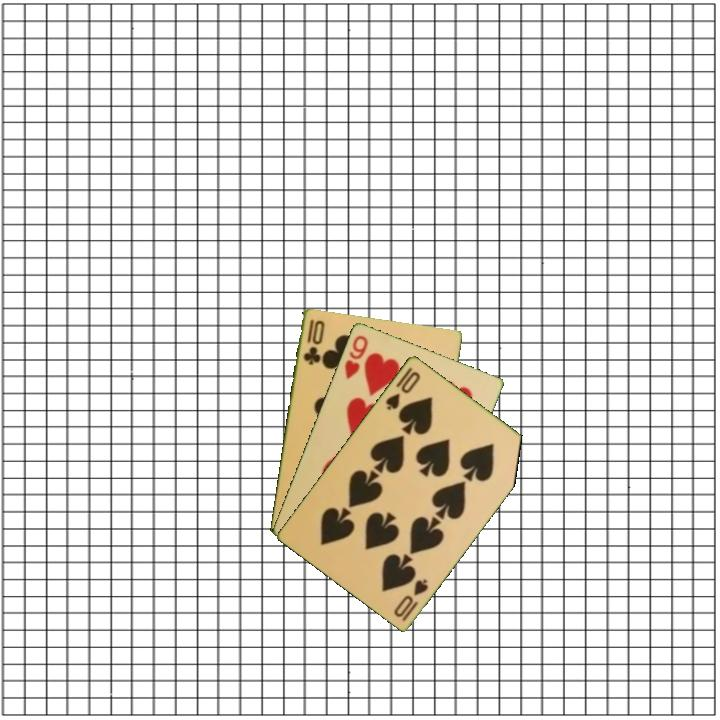10c: (299, 315, 327, 368)
10s: (382, 363, 423, 413), (390, 575, 431, 624)
9h: (341, 331, 371, 382)
